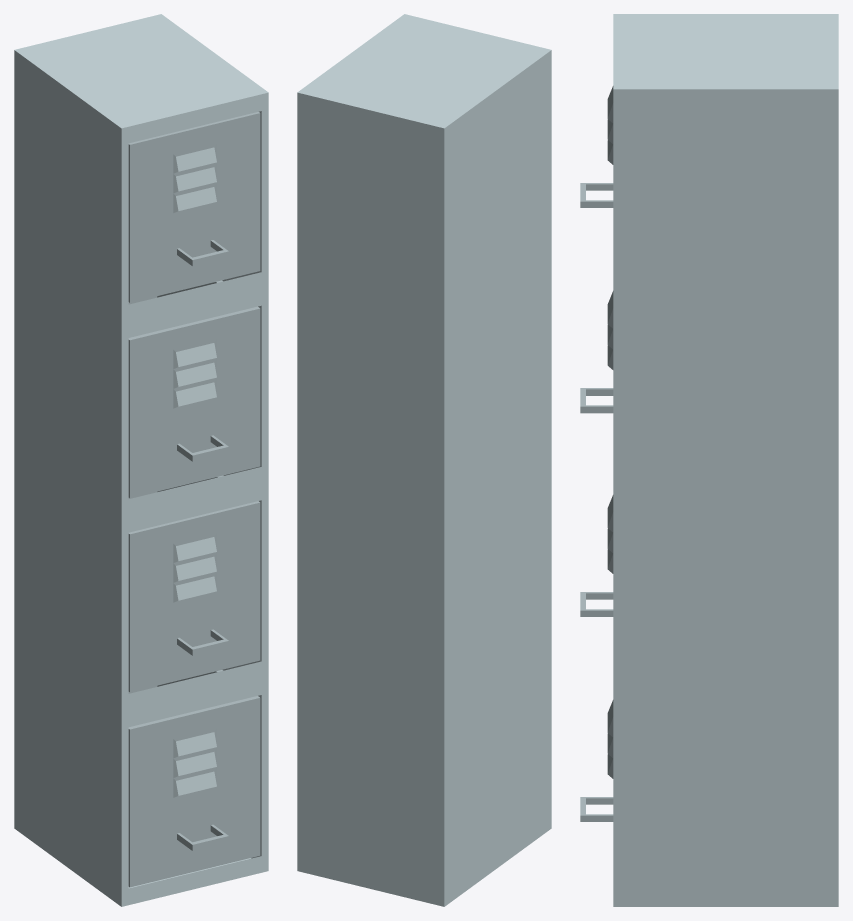
File: Drawer_Small.fbx
3 views of the same model, side by side, from view 1: azimuth 30°, elevation 25°; view 2: azimuth 150°, elevation 25°; view 3: azimuth 270°, elevation 25° (orthographic). The views are drawn at different scales.
Parts seen in each view (by area): view 1: Cube.018, Cube.016, Cube.014, Cube.015, Cube.017; view 2: Cube.018; view 3: Cube.018, Cube.016, Cube.014, Cube.017, Cube.015.
Part boxes in pixels (left/top/right/bottom): Cube.018: left=14, top=14, right=268, bottom=906; Cube.016: left=128, top=280, right=260, bottom=497; Cube.014: left=128, top=670, right=260, bottom=887; Cube.015: left=128, top=475, right=260, bottom=692; Cube.017: left=128, top=112, right=260, bottom=302; Cube.018: left=297, top=14, right=551, bottom=906; Cube.018: left=613, top=14, right=838, bottom=906; Cube.016: left=580, top=291, right=613, bottom=413; Cube.014: left=580, top=700, right=613, bottom=821; Cube.017: left=580, top=86, right=613, bottom=207; Cube.015: left=580, top=495, right=613, bottom=616.
Bounding box in the file's own units: 158 × 801 × 229.
